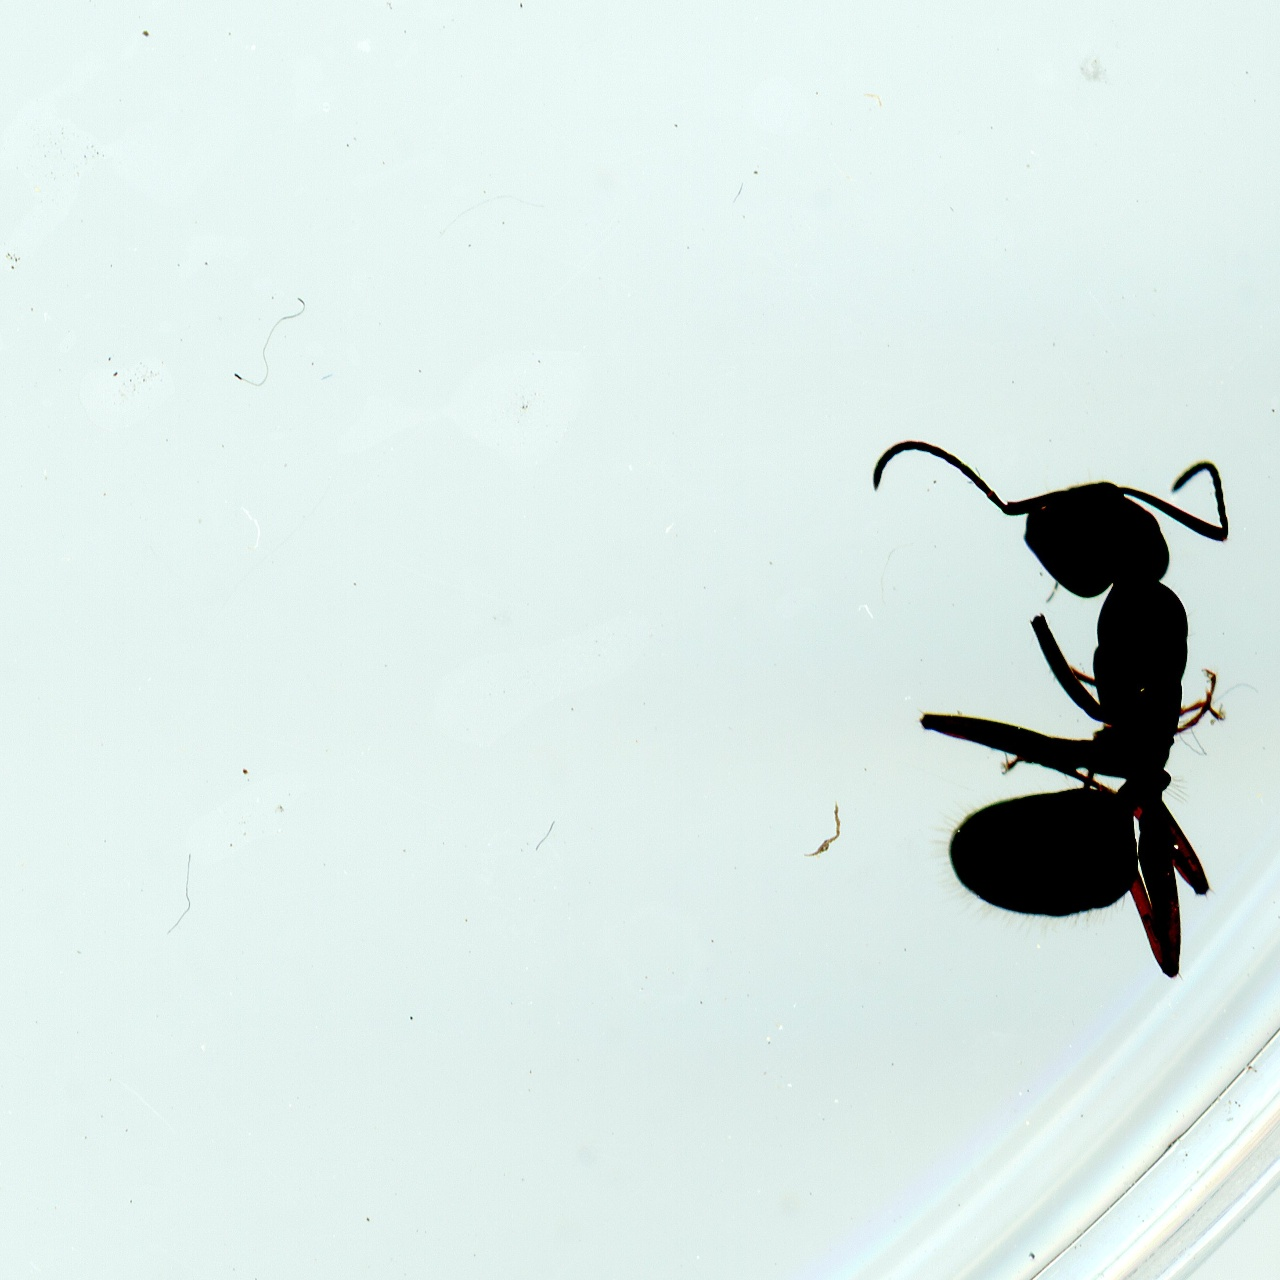arthropod: (853, 403, 1247, 1003)
